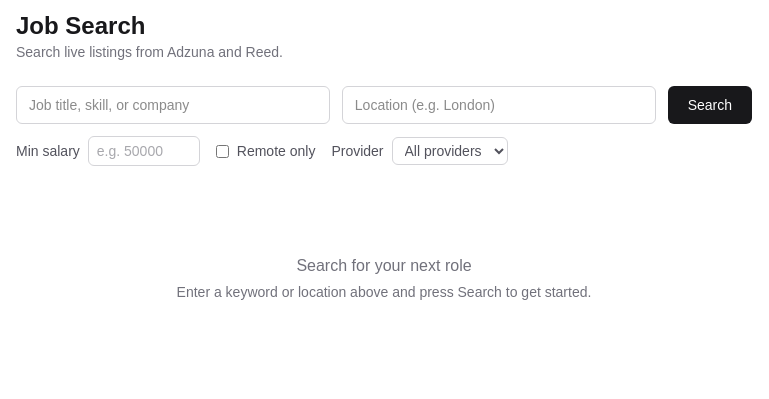
it: JobSearchScreen › shows a distinct notice (not the mock notice) when zero real providers are configured
The width and height of the screenshot is (769, 399).
Click the button "Search": [710, 105] box [668,86,752,124]
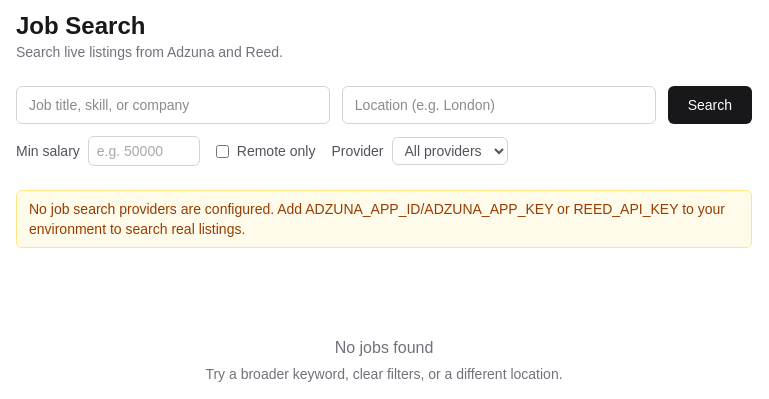
expect the text "No job search providers are configured" is shown: met, box [29,201,725,237]
